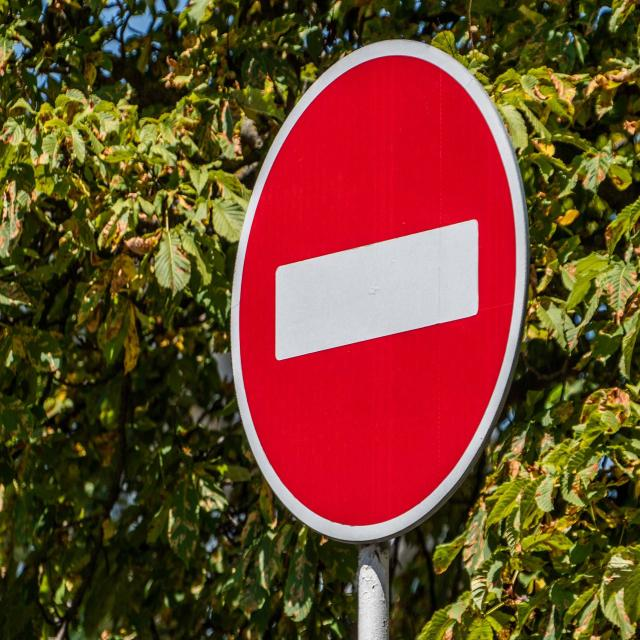no entry: (227, 34, 534, 550)
